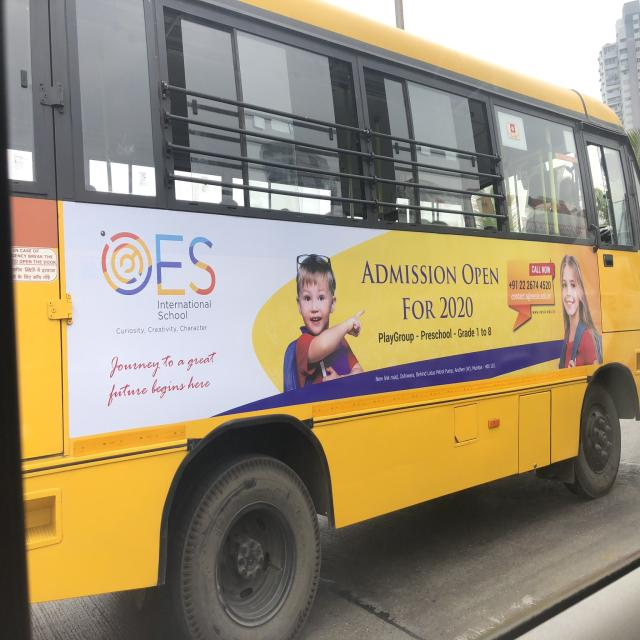bus: (8, 0, 640, 637)
